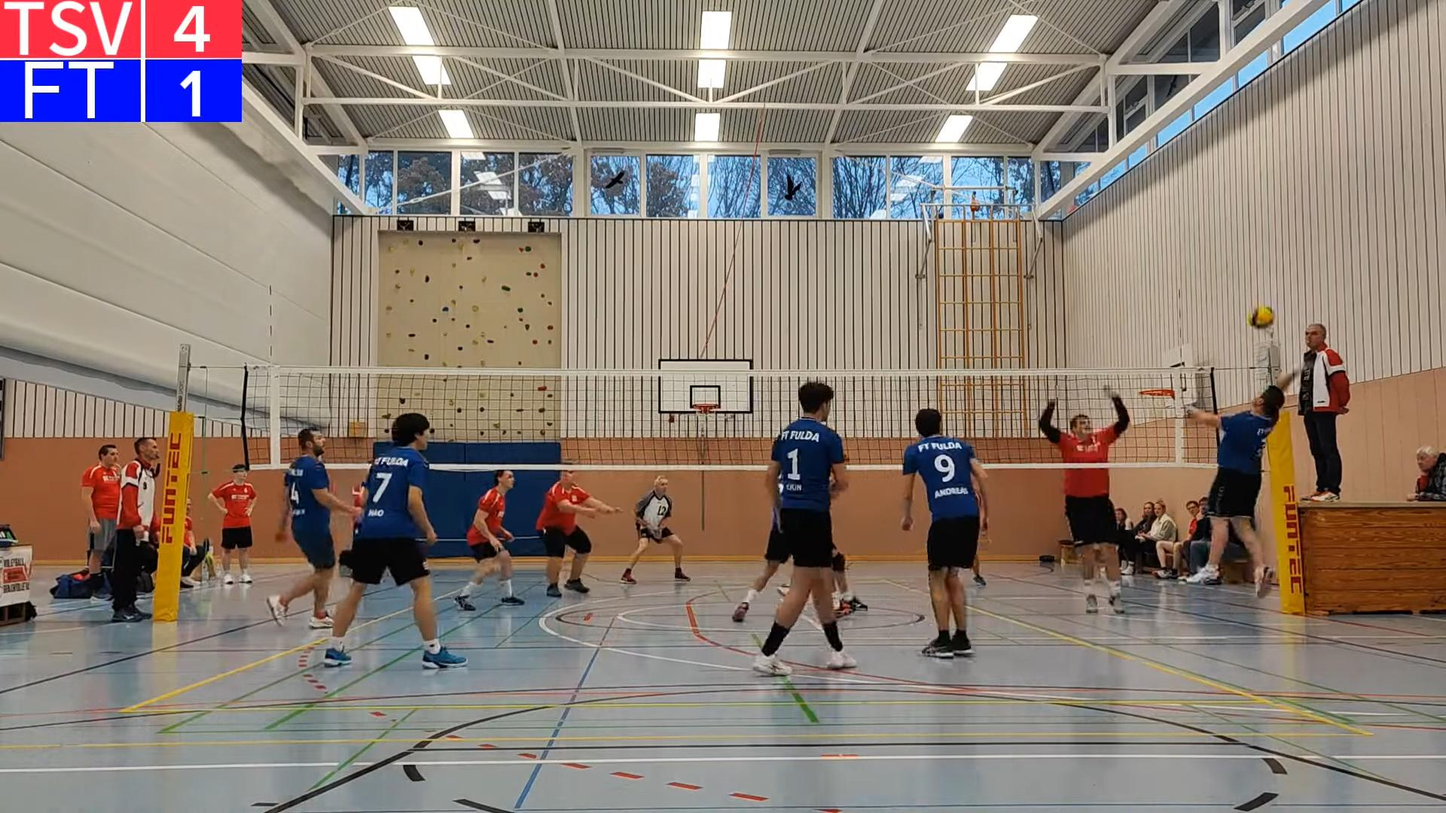Attack: (1180, 360, 1309, 602)
Player: (324, 413, 467, 668), (752, 382, 856, 674), (901, 408, 987, 658), (1039, 390, 1129, 612), (267, 428, 356, 628), (536, 470, 620, 597), (454, 470, 524, 611), (620, 475, 690, 583), (732, 501, 790, 621), (831, 548, 868, 617), (971, 553, 986, 586)
ball: (1251, 303, 1278, 327)
